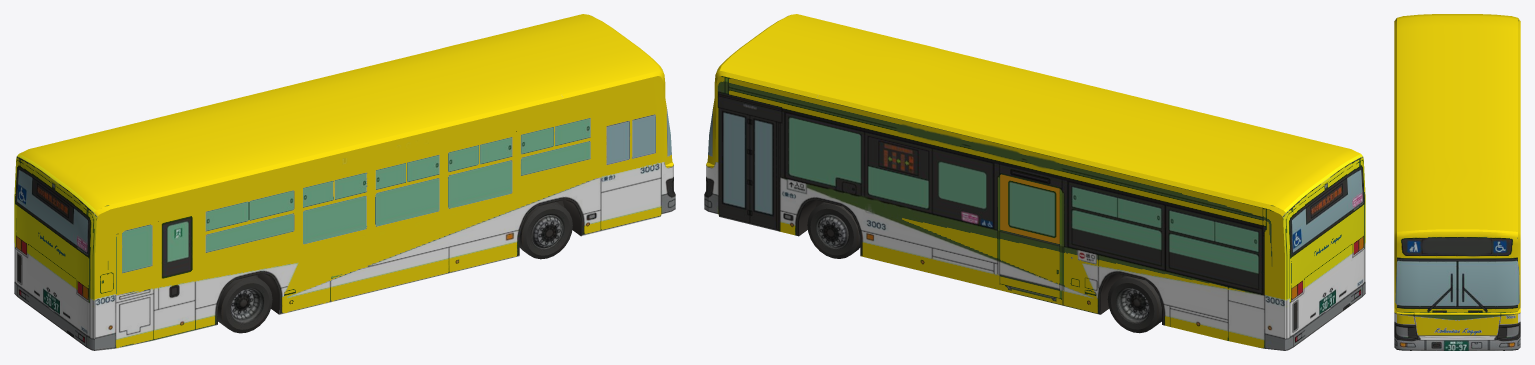
File: Guagua.glb
3 renders of one model, left to right at view 1: azimuth 30°, elevation 25°; view 2: azimuth 150°, elevation 25°; view 3: azimuth 270°, elevation 25°, orthographic. The views are drawn at different scales.
Visible parts, largest first — view 1: Object_2; view 2: Object_2; view 3: Object_2.
Boxes of the visible parts, x1=… form: Object_2: x1=14, y1=14, x2=675, y2=350; Object_2: x1=704, y1=14, x2=1365, y2=350; Object_2: x1=1394, y1=14, x2=1520, y2=350.
Bounding box in the file's own units: 63.32 × 17.15 × 15.03.
Materials: 1 (1 with a texture image).
